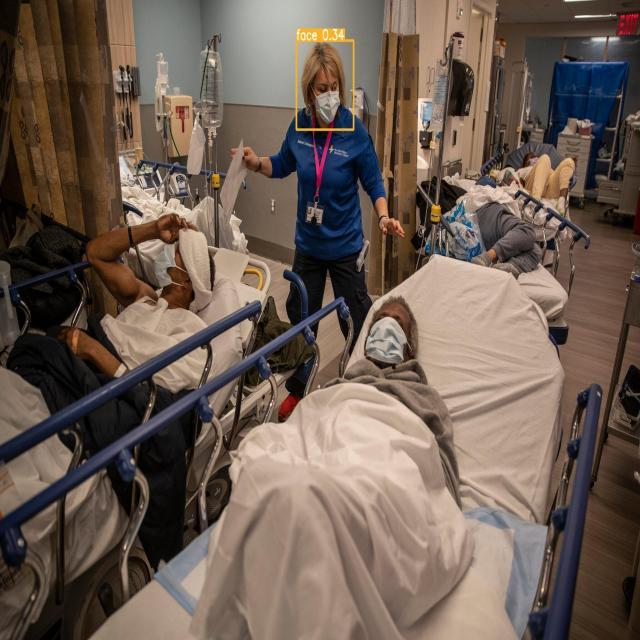Face: (296, 40, 354, 130)
